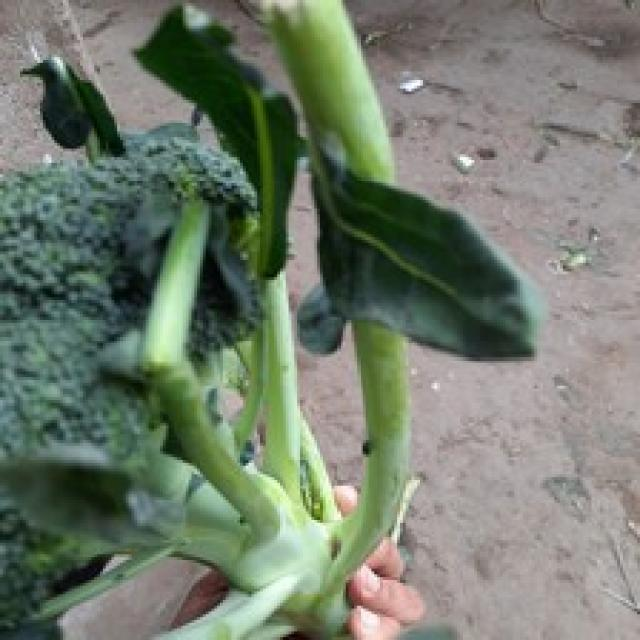Broccoli: (0, 125, 259, 457), (0, 125, 258, 456), (0, 498, 100, 631), (0, 498, 95, 629)
